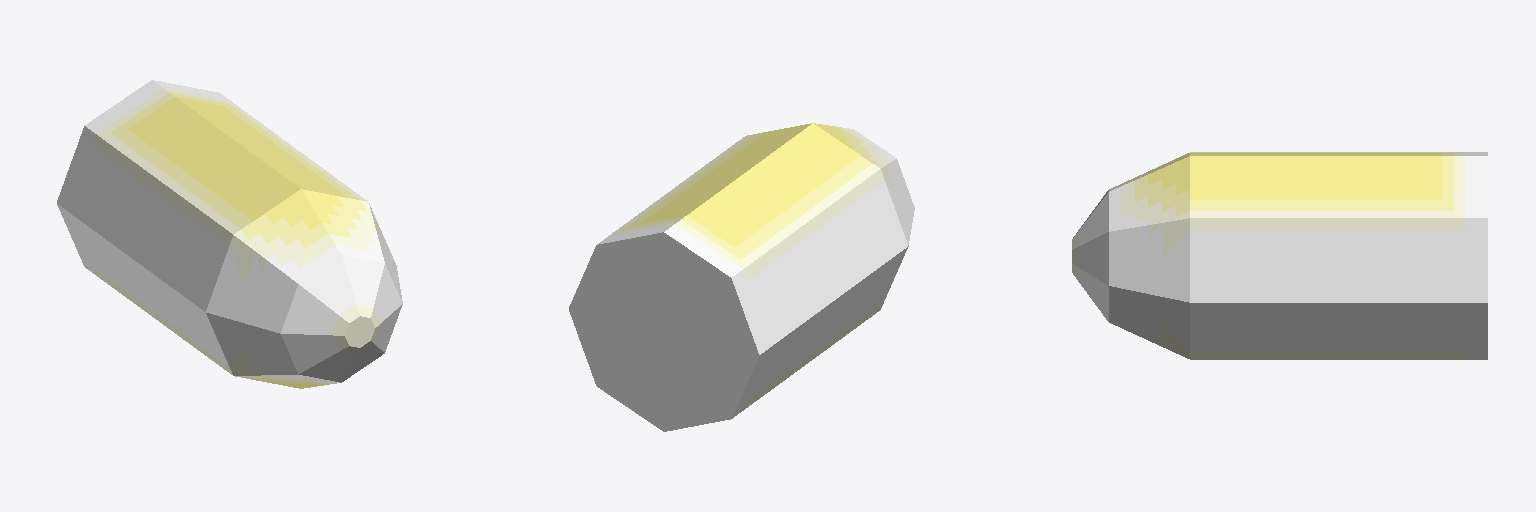
3 views of the same model, side by side, from view 1: azimuth 30°, elevation 25°; view 2: azimuth 150°, elevation 25°; view 3: azimuth 270°, elevation 25° (orthographic).
Visible parts, largest first — view 1: polygon0; view 2: polygon0; view 3: polygon0.
Part boxes in pixels (left/top/right/bottom): polygon0: left=57, top=80, right=402, bottom=388; polygon0: left=569, top=123, right=914, bottom=431; polygon0: left=1072, top=152, right=1487, bottom=359.
Size of the model in its own units: 4.24 by 4.24 by 8.
1 materials, 1 textured.